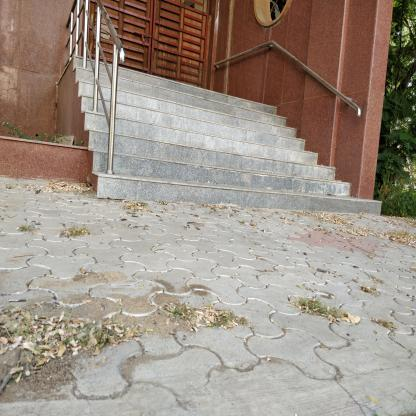stairs: (120, 104, 279, 215)
